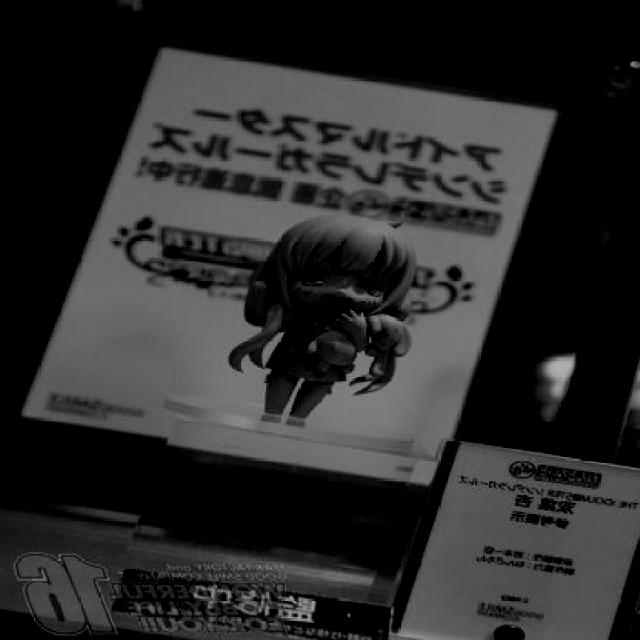fake: (1, 0, 640, 638)
